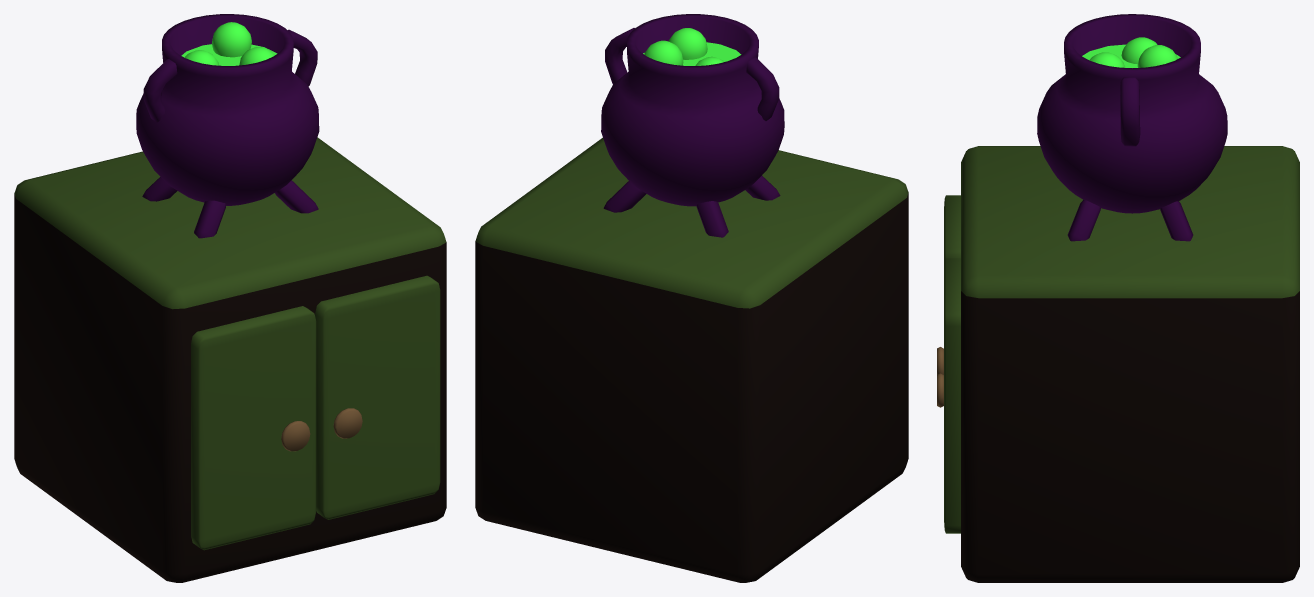
Rendered from Cauldron.fbx.
3 renders of one model, left to right at view 1: azimuth 30°, elevation 25°; view 2: azimuth 150°, elevation 25°; view 3: azimuth 270°, elevation 25°, orthographic. The views are drawn at different scales.
Parts seen in each view (by area): view 1: Grill.005, Grill.006, Sphere, Cube.002, Cube.003, Circle.007, Sphere.001; view 2: Grill.005, Sphere, Cube.002, Cube.003, Sphere.003, Sphere.001, Circle.005; view 3: Grill.005, Sphere, Grill.006, Cube.002, Cube.003, Sphere.001, Sphere.002.
Boxes of the visible parts, <box> form: Grill.005: <box>14,137,446,582</box>; Grill.006: <box>191,275,440,550</box>; Sphere: <box>136,14,319,205</box>; Cube.002: <box>142,177,318,238</box>; Cube.003: <box>143,29,317,122</box>; Circle.007: <box>281,408,362,451</box>; Sphere.001: <box>212,22,251,57</box>; Grill.005: <box>475,137,908,582</box>; Sphere: <box>601,14,784,206</box>; Cube.002: <box>603,176,780,237</box>; Cube.003: <box>605,28,779,120</box>; Sphere.003: <box>668,28,707,59</box>; Sphere.001: <box>644,40,683,65</box>; Circle.005: <box>643,42,741,65</box>; Grill.005: <box>961,146,1299,582</box>; Sphere: <box>1037,14,1227,213</box>; Grill.006: <box>944,195,960,533</box>; Cube.002: <box>1067,199,1193,241</box>; Cube.003: <box>1120,77,1140,146</box>; Sphere.001: <box>1137,45,1177,67</box>; Sphere.002: <box>1121,37,1157,64</box>.
Size of the model in its own units: 100 by 156 by 107.
